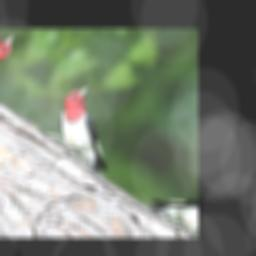Woodpecker: (34, 78, 149, 178)
